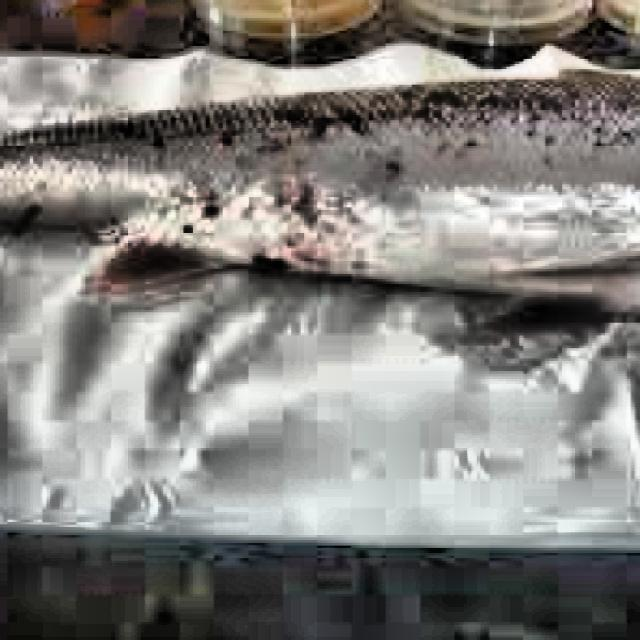mild_red: (0, 74, 639, 302)
